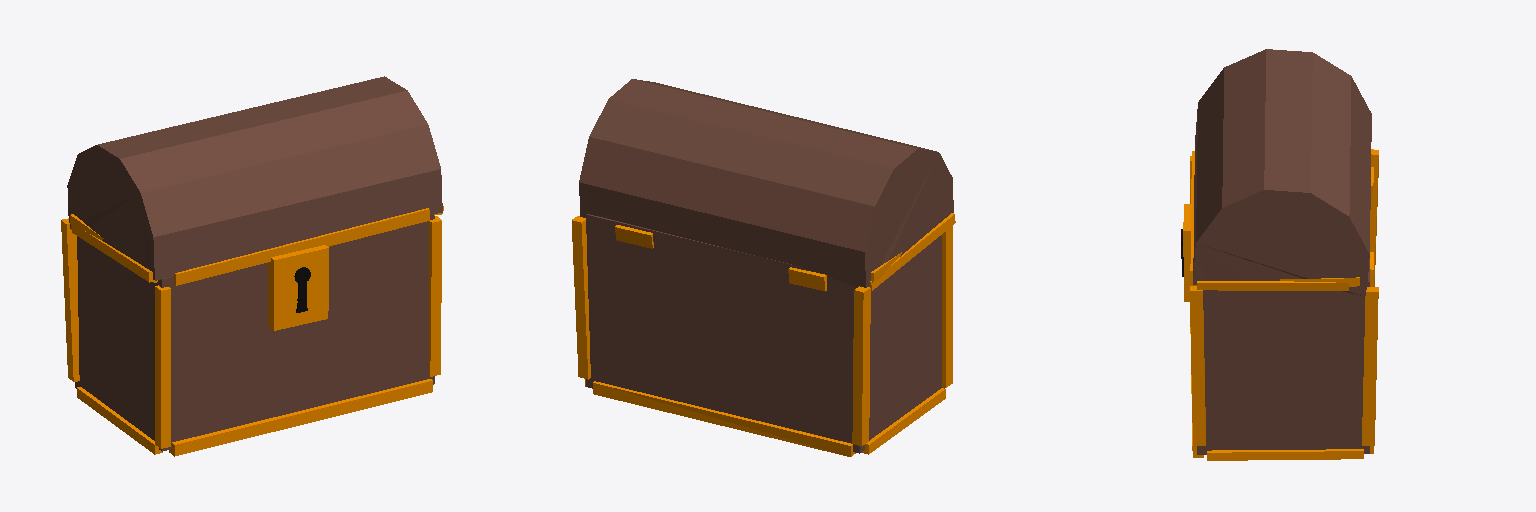
The model's file is treasurechest2.obj.
The picture shows the model from 3 angles: view 1: azimuth 30°, elevation 25°; view 2: azimuth 150°, elevation 25°; view 3: azimuth 270°, elevation 25°; orthographic projection.
Parts seen in each view (by area): view 1: group[number redacted], group[number redacted], group[number redacted], group[number redacted], group[number redacted], group[number redacted], group[number redacted], group[number redacted], group[number redacted], group[number redacted]; view 2: group[number redacted], group[number redacted], group[number redacted], group[number redacted], group[number redacted], group[number redacted], group[number redacted], group[number redacted]; view 3: group[number redacted], group[number redacted], group[number redacted], group[number redacted], group[number redacted], group[number redacted], group[number redacted], group[number redacted].
Part boxes in pixels (x1,y1,x2,y2): group[number redacted]: (67, 76, 442, 280); group[number redacted]: (75, 215, 434, 451); group[number redacted]: (268, 245, 328, 330); group[number redacted]: (169, 379, 432, 456); group[number redacted]: (173, 208, 429, 285); group[number redacted]: (155, 285, 170, 448); group[number redacted]: (61, 218, 79, 381); group[number redacted]: (429, 216, 441, 376); group[number redacted]: (77, 387, 162, 454); group[number redacted]: (71, 225, 154, 282); group[number redacted]: (586, 214, 944, 453); group[number redacted]: (579, 79, 953, 291); group[number redacted]: (593, 381, 855, 456); group[number redacted]: (852, 286, 870, 445); group[number redacted]: (572, 216, 590, 379); group[number redacted]: (942, 226, 952, 387); group[number redacted]: (861, 388, 945, 454); group[number redacted]: (870, 213, 955, 290); group[number redacted]: (1193, 49, 1373, 296); group[number redacted]: (1197, 259, 1369, 454); group[number redacted]: (1190, 286, 1205, 445); group[number redacted]: (1362, 287, 1378, 445); group[number redacted]: (1207, 449, 1363, 460); group[number redacted]: (1197, 281, 1348, 290); group[number redacted]: (1370, 149, 1378, 286); group[number redacted]: (1183, 204, 1196, 301).
Bounding box in the file's own units: 0.3767 × 0.3354 × 0.2205.